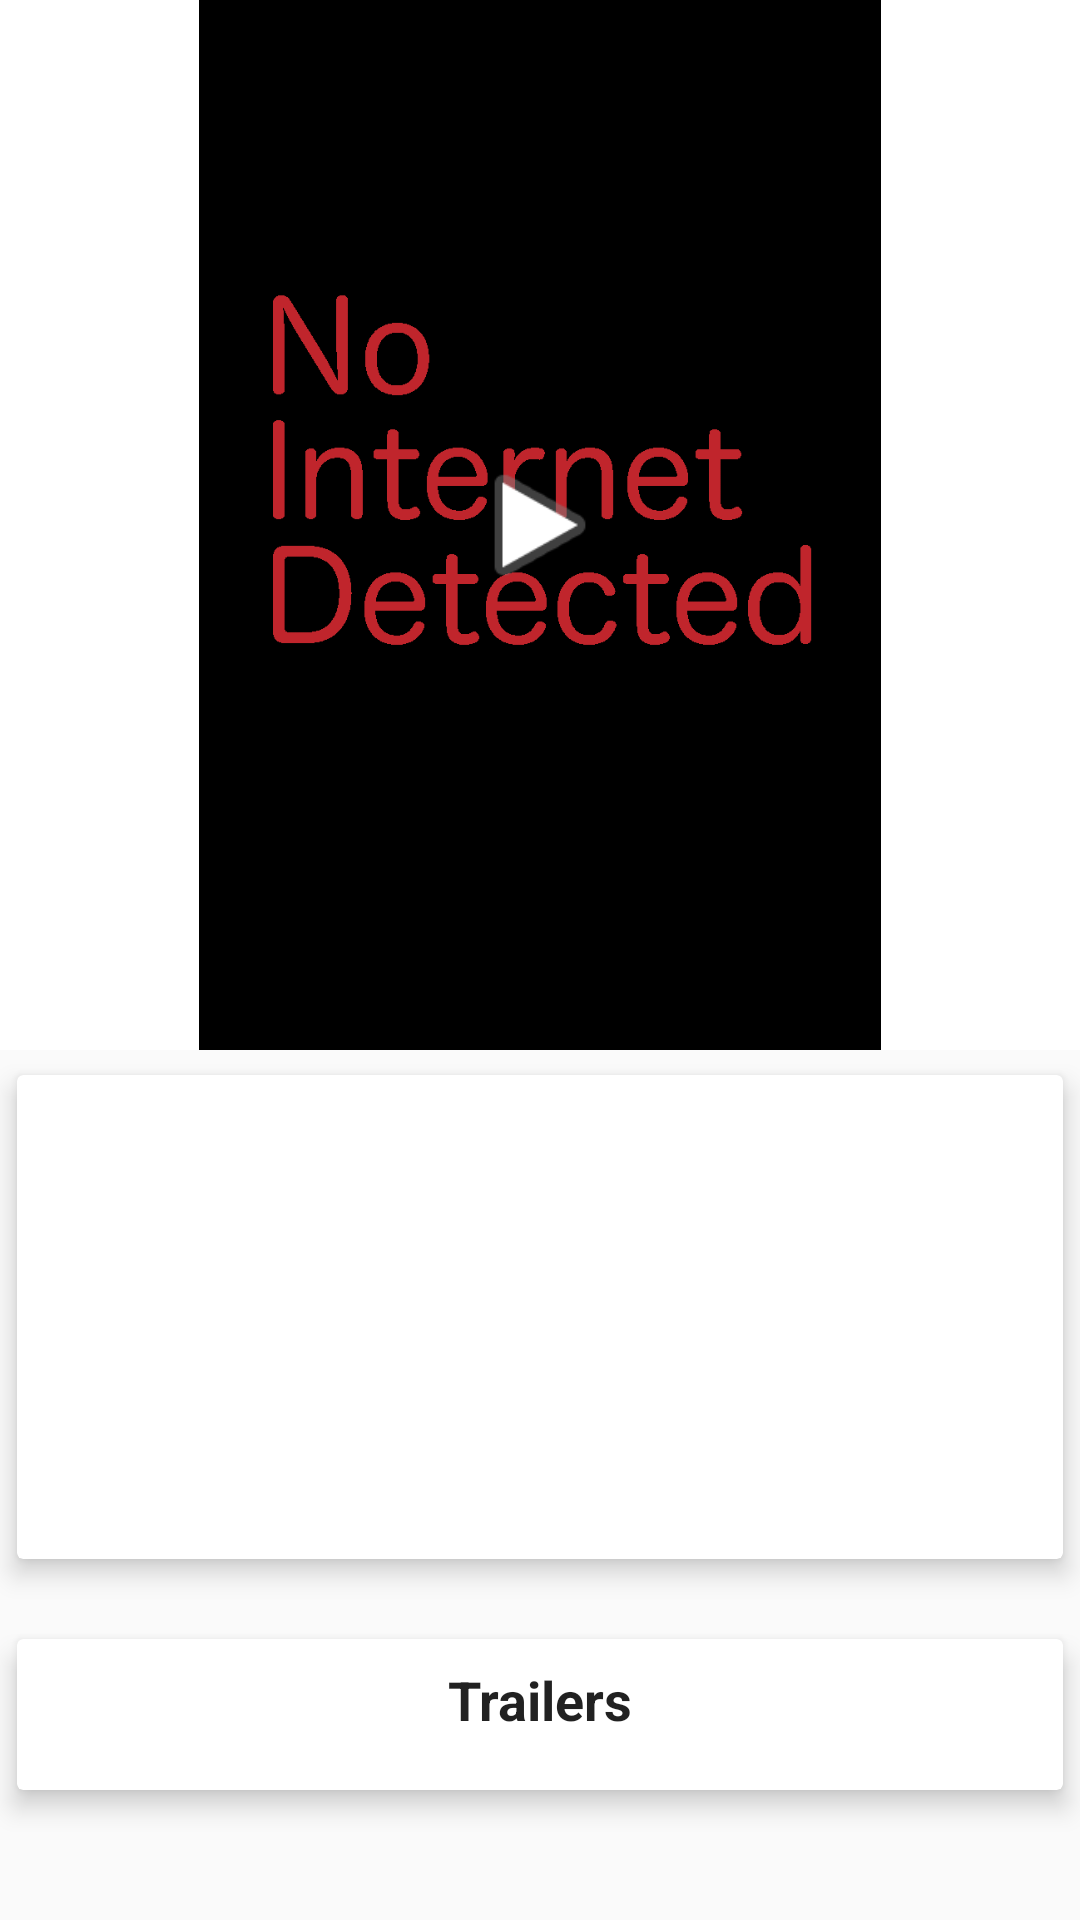

Where icons sit on this 1080 × 1920 app screen, as (x1, y1, x2, y2):
play: (465, 450, 615, 600)
